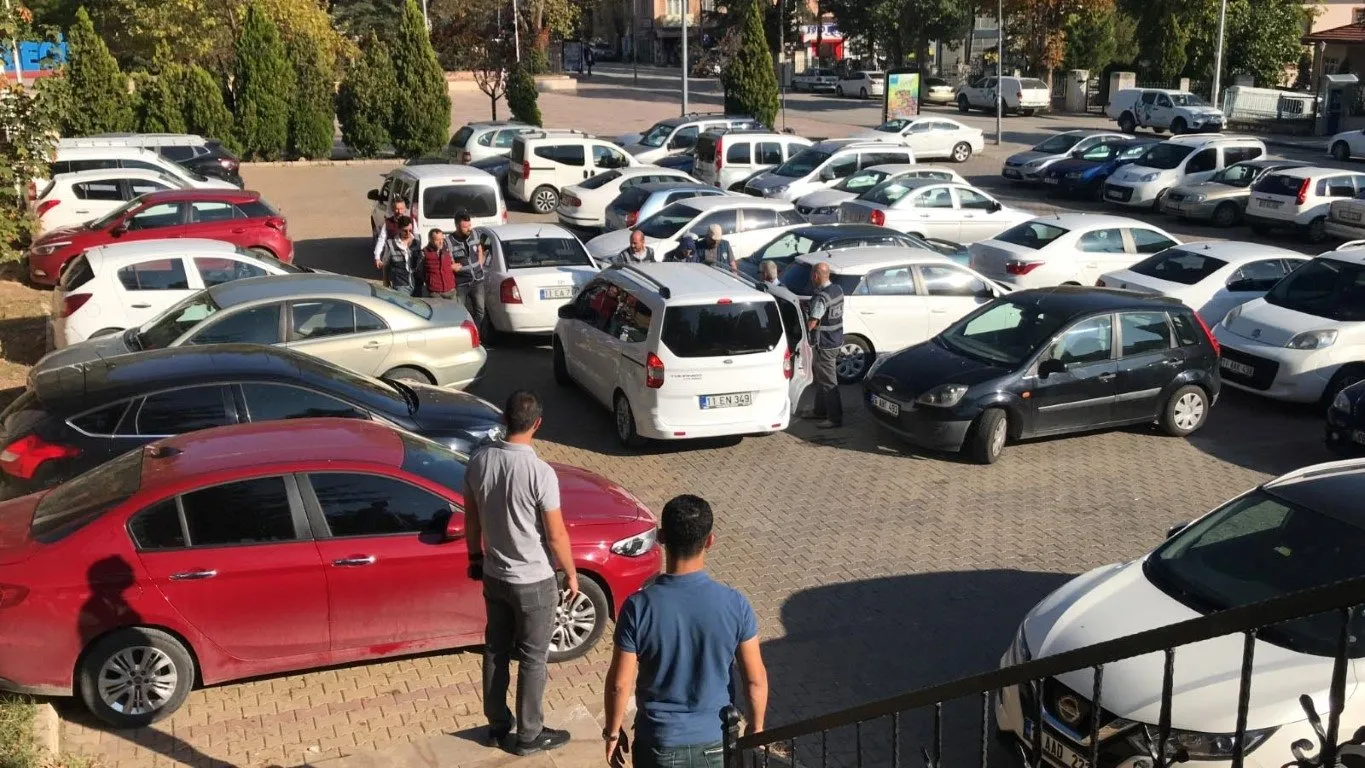Car: (0, 417, 663, 727), (993, 458, 1365, 768), (0, 345, 503, 495), (863, 286, 1220, 464), (32, 275, 487, 390), (552, 262, 813, 446), (786, 247, 1026, 385), (48, 240, 333, 350), (28, 190, 294, 286), (1214, 240, 1365, 405), (1097, 241, 1314, 327), (587, 195, 811, 273), (969, 213, 1185, 289), (30, 134, 240, 207), (737, 224, 968, 288), (839, 178, 1039, 247), (478, 224, 601, 336), (1103, 134, 1267, 208), (367, 164, 508, 250), (507, 129, 645, 214), (743, 138, 916, 201), (796, 164, 971, 226), (1159, 159, 1314, 225), (33, 169, 181, 236), (556, 164, 701, 229), (1245, 167, 1365, 238), (693, 128, 817, 193), (605, 182, 746, 234), (1001, 129, 1136, 182), (622, 116, 766, 165), (1042, 138, 1165, 195), (852, 116, 985, 163), (1105, 88, 1227, 135), (143, 139, 245, 191), (448, 121, 542, 165), (957, 76, 1051, 117), (1223, 84, 1323, 118), (1326, 380, 1365, 455), (1325, 191, 1365, 241), (470, 152, 510, 195), (835, 71, 884, 99), (653, 146, 695, 176), (1328, 127, 1365, 161), (790, 68, 838, 93), (920, 76, 955, 106), (611, 127, 651, 146), (589, 41, 616, 60)
